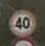limite 40: (7, 7, 38, 38)
